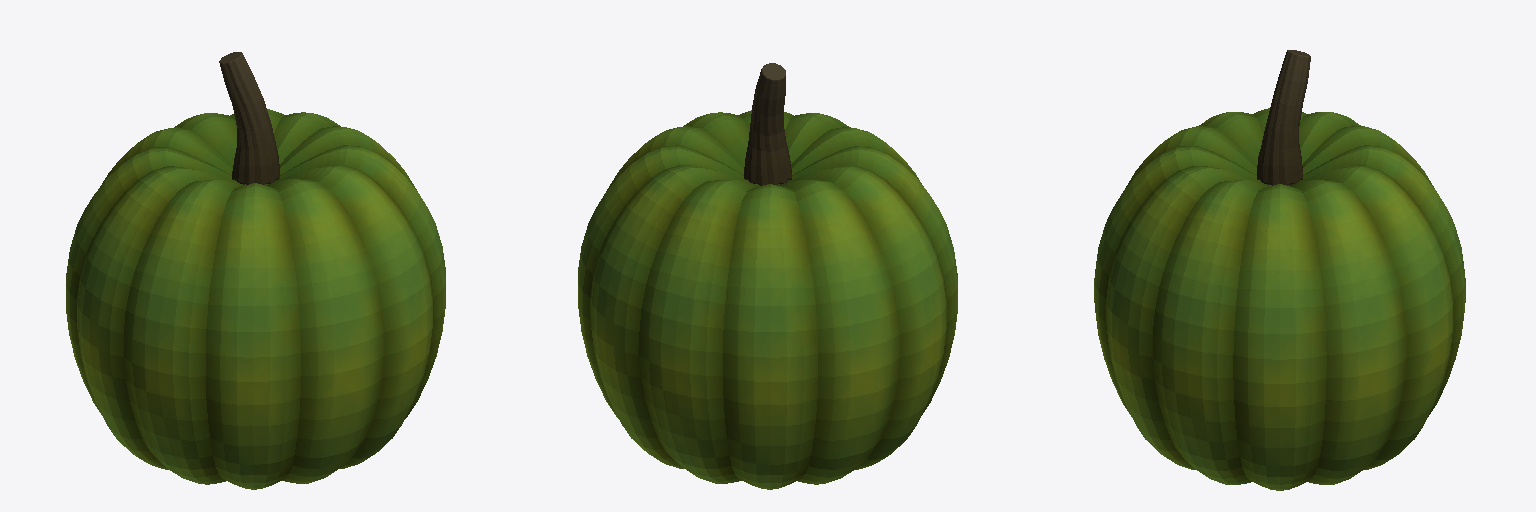
The picture shows the model from 3 angles: view 1: azimuth 30°, elevation 25°; view 2: azimuth 150°, elevation 25°; view 3: azimuth 270°, elevation 25°; orthographic projection.
Parts seen in each view (by area): view 1: pumpkin_small_005; view 2: pumpkin_small_005; view 3: pumpkin_small_005.
Part boxes in pixels (x1,y1,x2,y2): pumpkin_small_005: (66, 52, 445, 489); pumpkin_small_005: (578, 63, 957, 489); pumpkin_small_005: (1094, 50, 1465, 490).
Size of the model in its own units: 1.78 by 2.04 by 1.72.
1 materials, 1 textured.